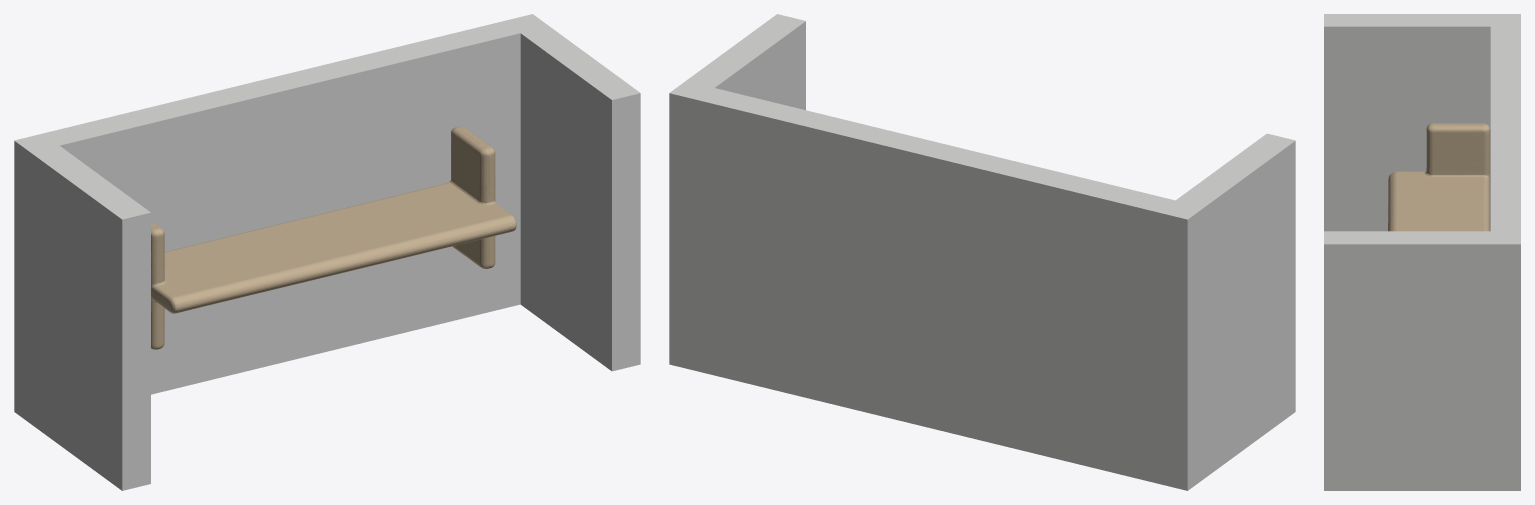
File: hunyuan_niche.glb
3 views of the same model, side by side, from view 1: azimuth 30°, elevation 25°; view 2: azimuth 150°, elevation 25°; view 3: azimuth 270°, elevation 25° (orthographic). The views are drawn at different scales.
Visible parts, largest first — view 1: geometry_2, geometry_0, geometry_1, geometry_3; view 2: geometry_2, geometry_0, geometry_1; view 3: geometry_1, geometry_0, geometry_2, geometry_3.
Boxes of the visible parts, x1,y1,x2,y2 form: geometry_2: (14,14,548,422); geometry_0: (22,139,150,490); geometry_1: (512,20,640,371); geometry_3: (151,126,516,349); geometry_2: (669,87,1204,490); geometry_0: (1175,133,1295,484); geometry_1: (678,14,805,110); geometry_1: (1324,231,1505,490); geometry_0: (1324,14,1505,231); geometry_2: (1490,14,1520,490); geometry_3: (1388,123,1490,231).
Bounding box in the file's own units: 0.9 × 0.45 × 0.325.
